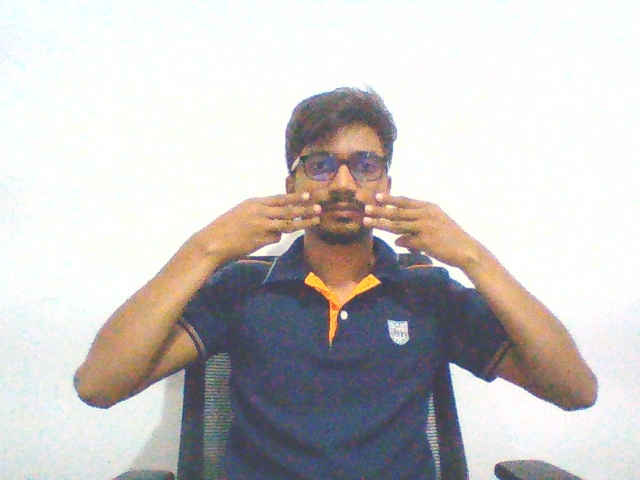cat: (191, 183, 486, 280)
